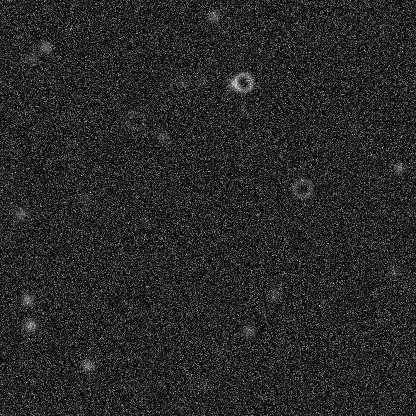Ring: (231, 70, 255, 94), (290, 176, 314, 200), (123, 109, 147, 133)
Spot: (173, 74, 189, 90), (391, 159, 407, 175), (75, 191, 91, 207), (240, 322, 256, 338), (19, 291, 35, 307), (292, 21, 308, 37), (196, 377, 212, 393), (23, 49, 39, 65), (22, 317, 38, 333), (193, 72, 209, 88), (346, 120, 362, 136), (79, 357, 95, 373), (384, 262, 400, 278), (225, 75, 241, 91), (267, 285, 283, 301), (12, 205, 28, 221), (205, 7, 221, 23), (154, 128, 170, 144), (37, 39, 53, 55)
